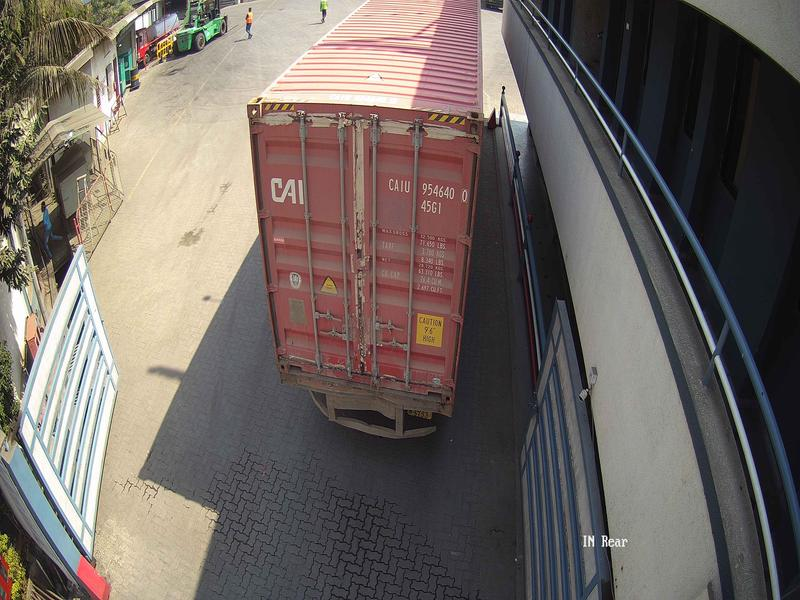container: (233, 80, 506, 404)
